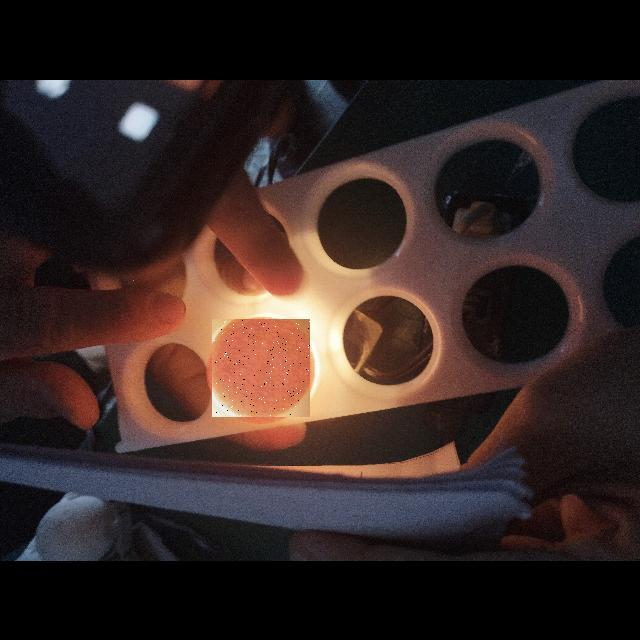Infertile: (212, 319, 310, 417)
